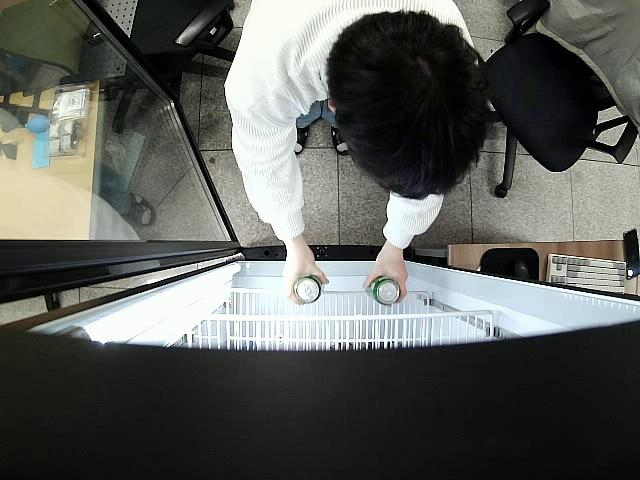00_hand: (280, 249, 328, 305), (361, 253, 410, 305)
12_chilsungCider: (365, 273, 400, 305), (293, 273, 323, 303)
